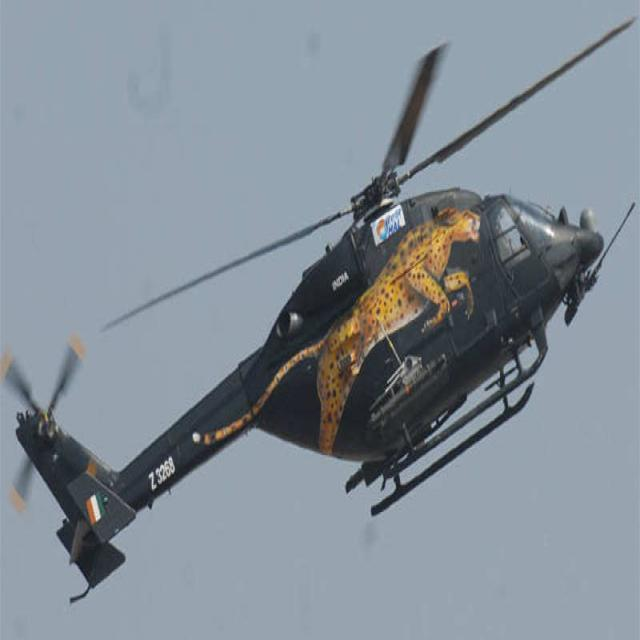helicopter: (7, 87, 628, 626)
